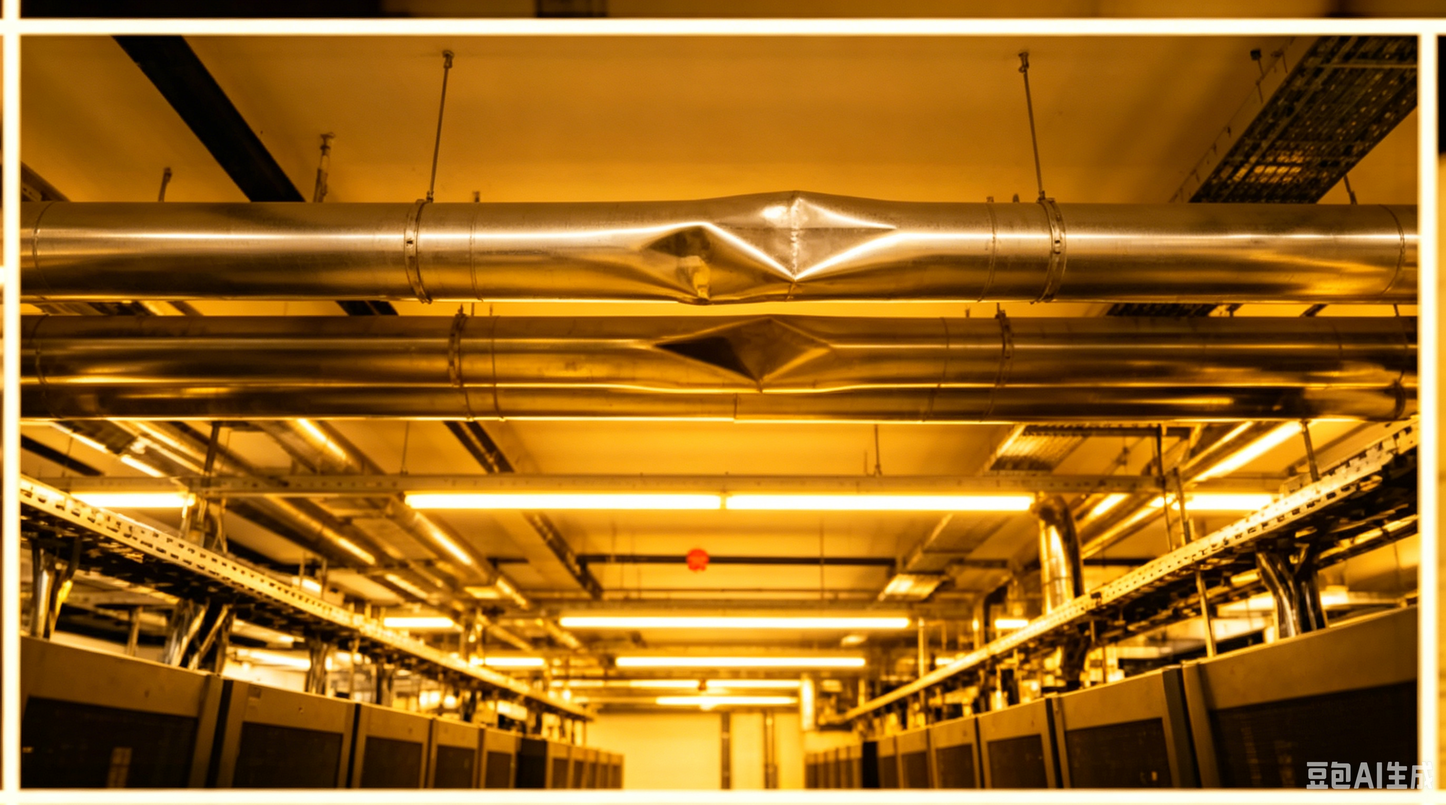Leakage: (578, 306, 849, 396), (724, 191, 940, 290), (616, 224, 740, 313)
